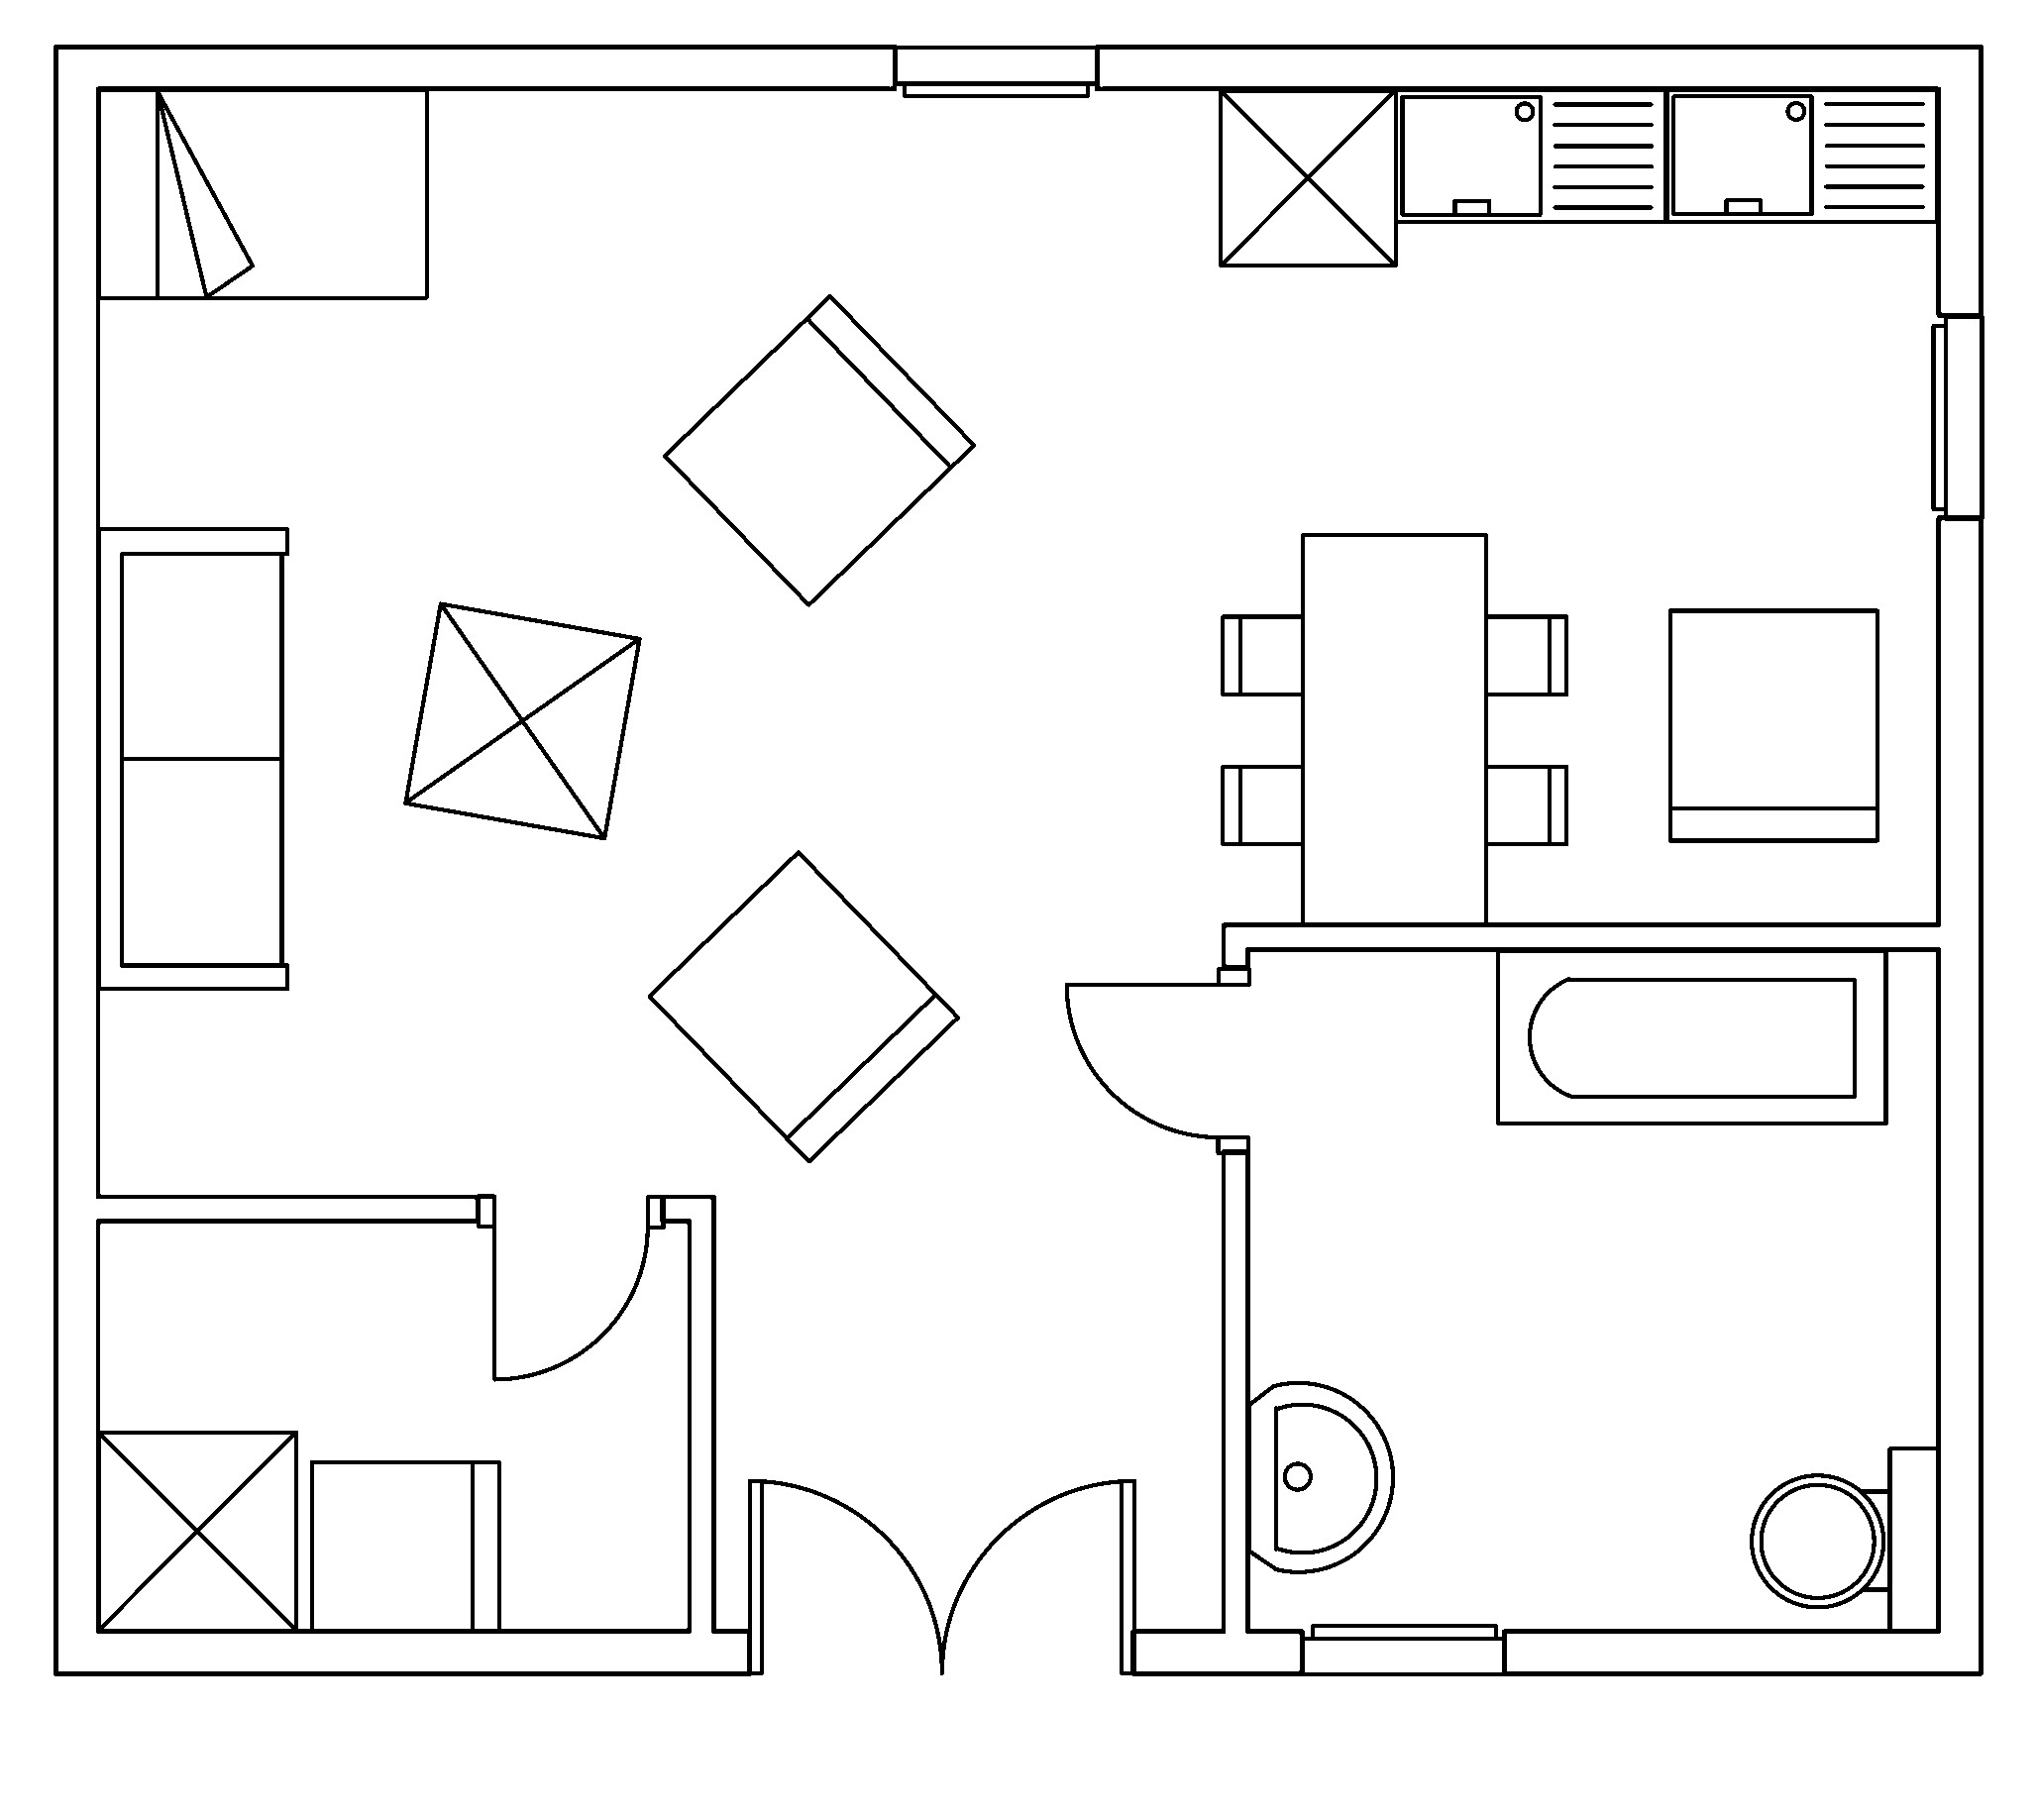bed: (95, 86, 428, 300)
coffee_table: (402, 599, 643, 840), (95, 1428, 299, 1632), (1217, 86, 1398, 267)
dining_table: (1219, 531, 1568, 926)
large_sink: (1749, 1444, 1940, 1632)
large_sofa: (95, 525, 290, 991)
sink: (1663, 86, 1940, 223), (1393, 86, 1668, 223)
small_sink: (1245, 1381, 1394, 1572)
small_sofa: (660, 292, 976, 608), (644, 849, 961, 1163), (1666, 606, 1879, 841), (307, 1458, 500, 1632)
tub: (1494, 947, 1888, 1126)
